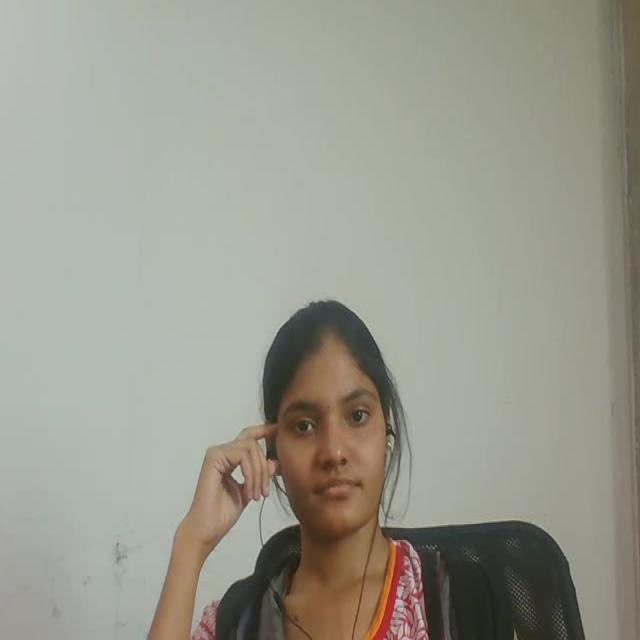Engaged: (234, 261, 425, 551)
